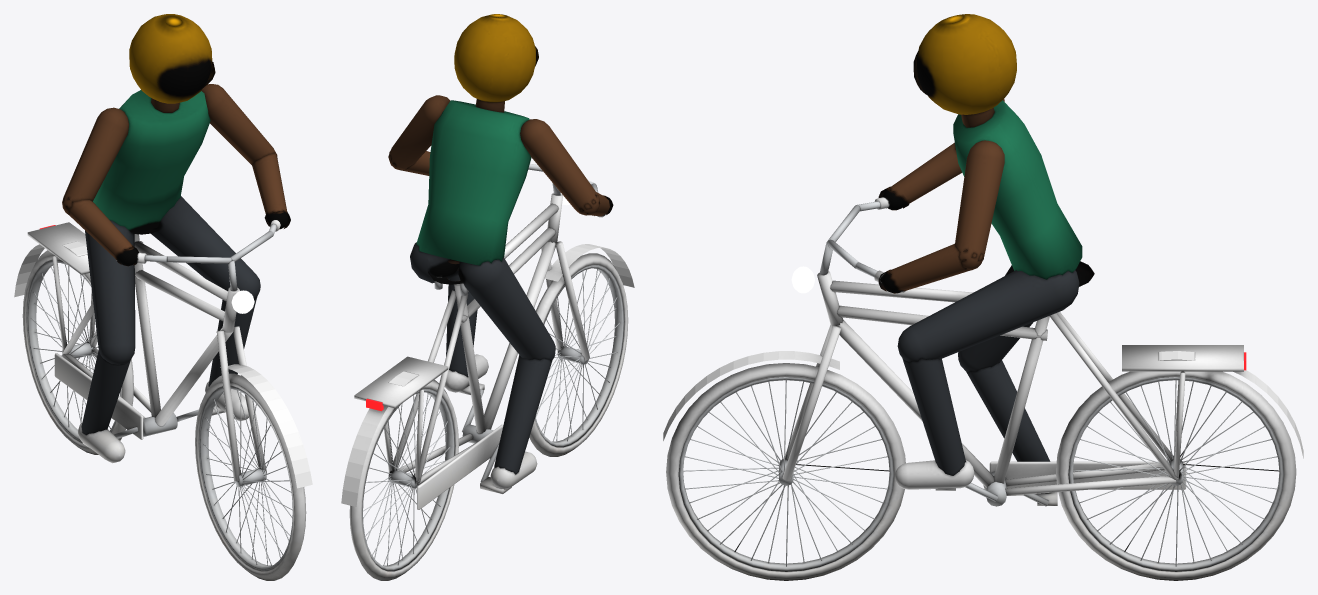
Rendered from bicycle.glb.
3 renders of one model, left to right at view 1: azimuth 30°, elevation 25°; view 2: azimuth 150°, elevation 25°; view 3: azimuth 270°, elevation 25°, orthographic. The views are drawn at different scales.
Visible parts, largest first — view 1: rider, frame, wheel_f, wheel_r, lights; view 2: rider, frame, wheel_f, wheel_r; view 3: rider, frame, wheel_f, wheel_r.
Part boxes in pixels (x1,y1,x2,y2): rider: [62, 14, 290, 463]; frame: [14, 219, 312, 488]; wheel_f: [195, 373, 306, 580]; wheel_r: [22, 250, 133, 454]; lights: [40, 225, 254, 313]; rider: [388, 14, 613, 489]; frame: [341, 163, 634, 509]; wheel_f: [529, 253, 628, 456]; wheel_r: [349, 380, 458, 580]; rider: [878, 14, 1082, 495]; frame: [663, 197, 1303, 506]; wheel_f: [666, 363, 905, 580]; wheel_r: [1056, 371, 1296, 580].
Bounding box in the file's own units: 0.8157 × 1.83 × 1.89.
Materials: 15 (13 with a texture image).
